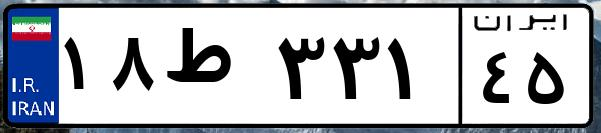1: (385, 28, 445, 110), (57, 26, 110, 100)
3: (270, 28, 330, 110), (330, 28, 385, 110)
4: (475, 38, 525, 113)
5: (525, 38, 570, 115)
8: (110, 28, 158, 98)
ط: (158, 20, 270, 120)
